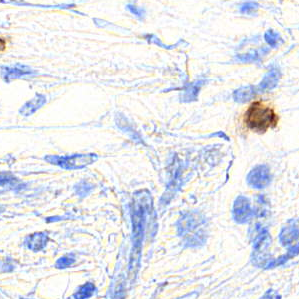Lymphocyte: (246, 96, 280, 135)
